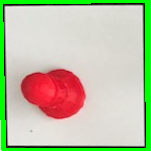Red Pawn: (18, 65, 89, 121)
